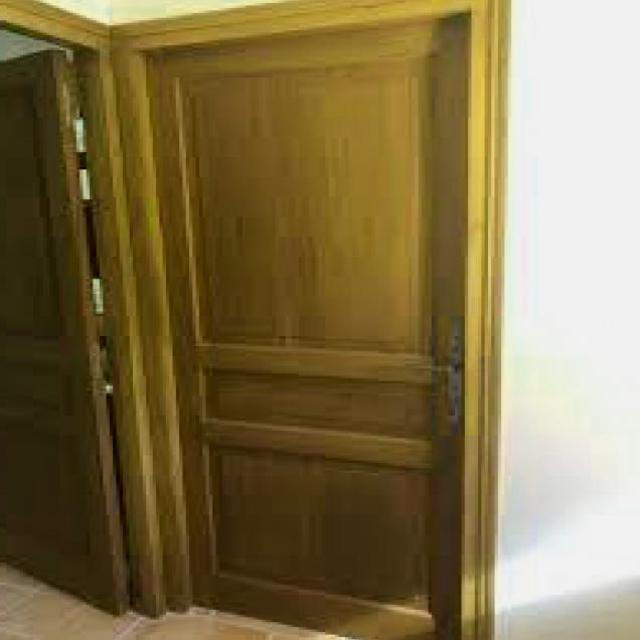door: (134, 5, 472, 640)
